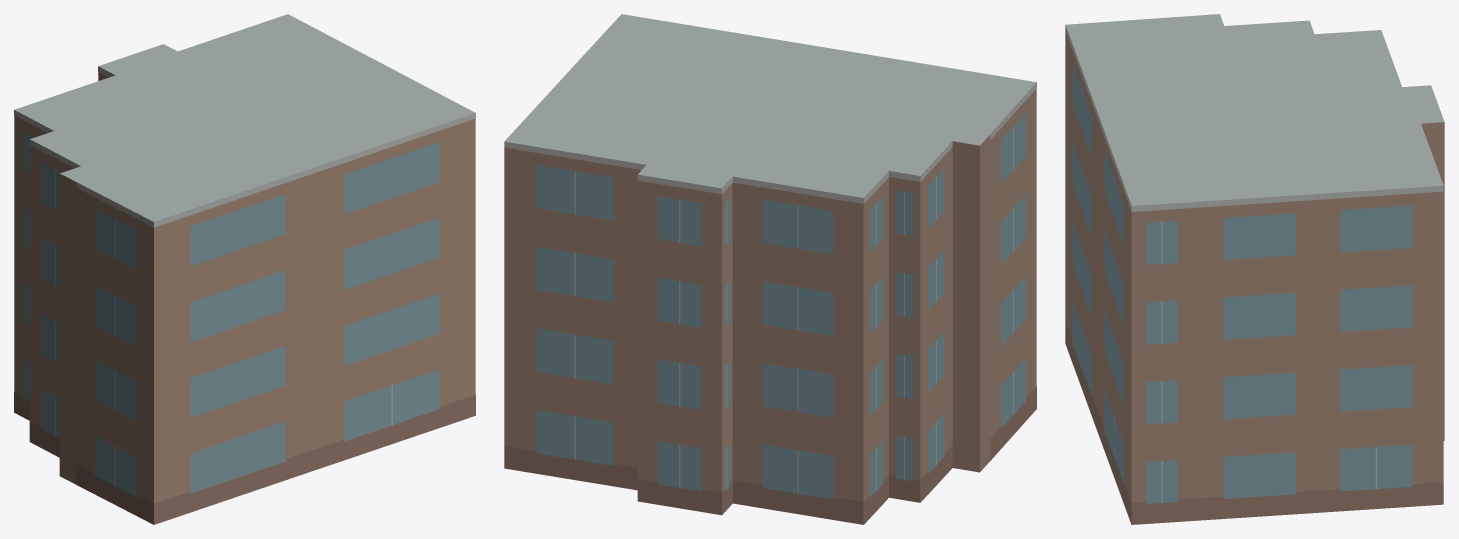
File: survey-upis-32743406.glb
The picture shows the model from 3 angles, left to right: view 1: azimuth 30°, elevation 25°; view 2: azimuth 150°, elevation 25°; view 3: azimuth 270°, elevation 25°; orthographic projection. The views are drawn at different scales.
Parts seen in each view (by area): view 1: survey-upis-32743406.tmp; view 2: survey-upis-32743406.tmp; view 3: survey-upis-32743406.tmp.
Part boxes in pixels (x1,y1,x2,y2): survey-upis-32743406.tmp: [14, 14, 475, 524]; survey-upis-32743406.tmp: [504, 14, 1036, 524]; survey-upis-32743406.tmp: [1065, 14, 1444, 524].
Bounding box in the file's own units: 17.2 × 13.3 × 14.35.
